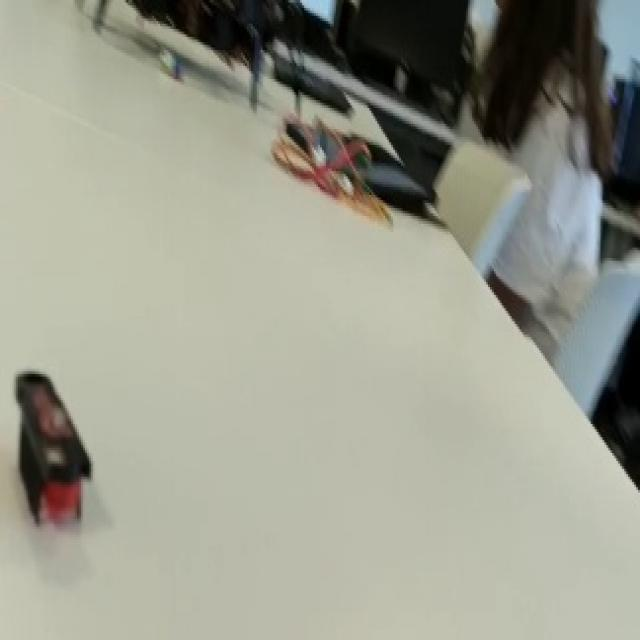2_NanoBug_Negro: (5, 356, 105, 548)
